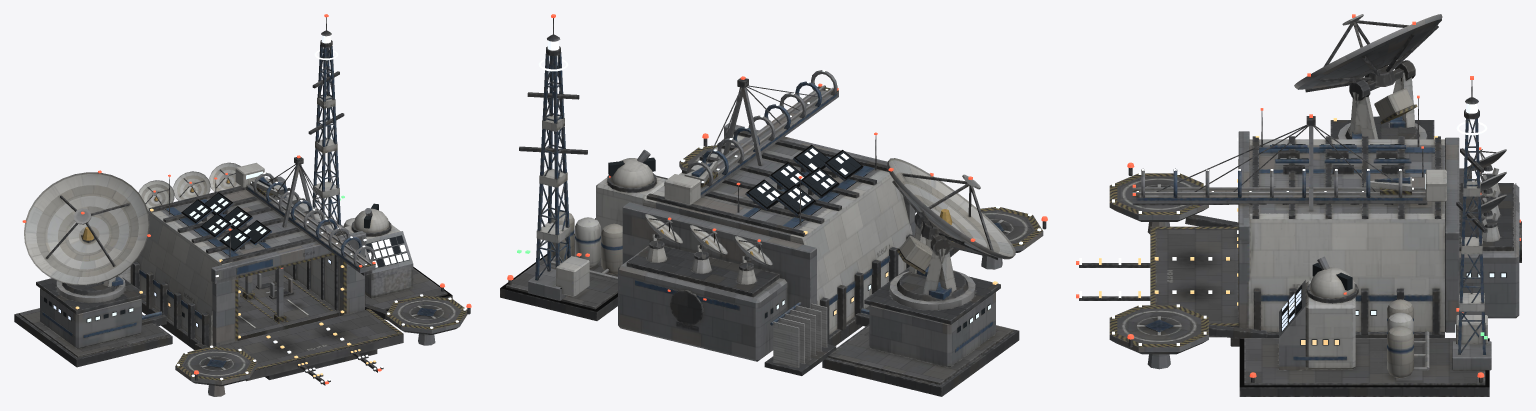
Rendered from explorer_outpost.glb.
3 views of the same model, side by side, from view 1: azimuth 30°, elevation 25°; view 2: azimuth 150°, elevation 25°; view 3: azimuth 270°, elevation 25° (orthographic). The views are drawn at different scales.
Parts seen in each view (by area): view 1: explorer_outpost_hull, explorer_outpost_lights; view 2: explorer_outpost_hull, explorer_outpost_lights; view 3: explorer_outpost_hull, explorer_outpost_lights.
Part boxes in pixels (x1,y1,x2,y2): explorer_outpost_hull: [14, 17, 470, 396]; explorer_outpost_lights: [22, 14, 471, 384]; explorer_outpost_hull: [500, 18, 1046, 396]; explorer_outpost_lights: [507, 14, 1047, 332]; explorer_outpost_hull: [1079, 14, 1521, 396]; explorer_outpost_lights: [1076, 14, 1520, 377].
Size of the model in its own units: 60.91 by 37.14 by 49.92.
Materials: 9 (1 with a texture image).
